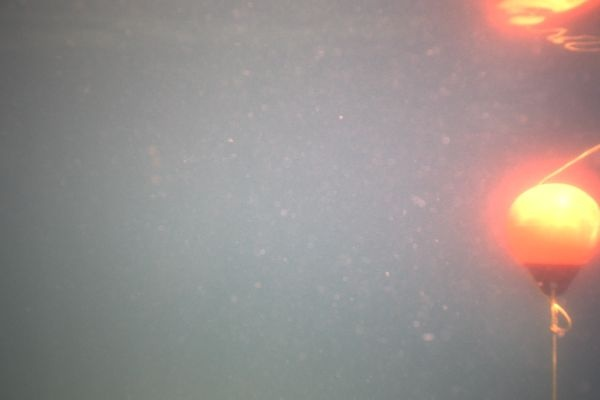buoy: (506, 182, 600, 297)
